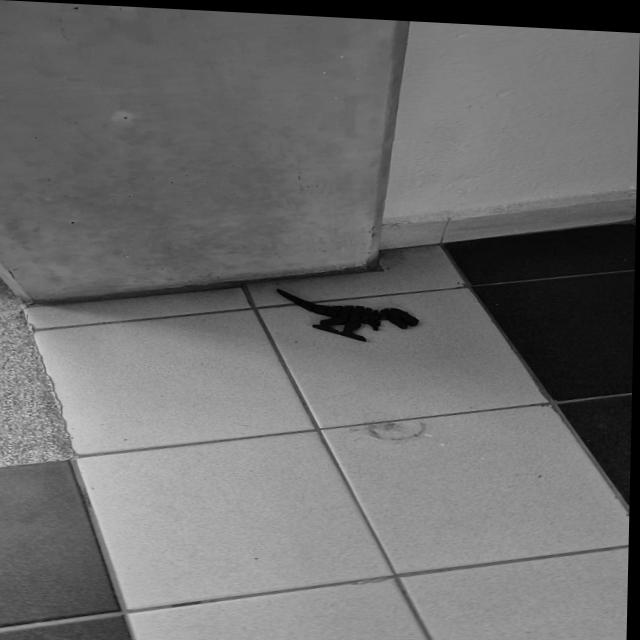dino: (274, 288, 420, 346)
